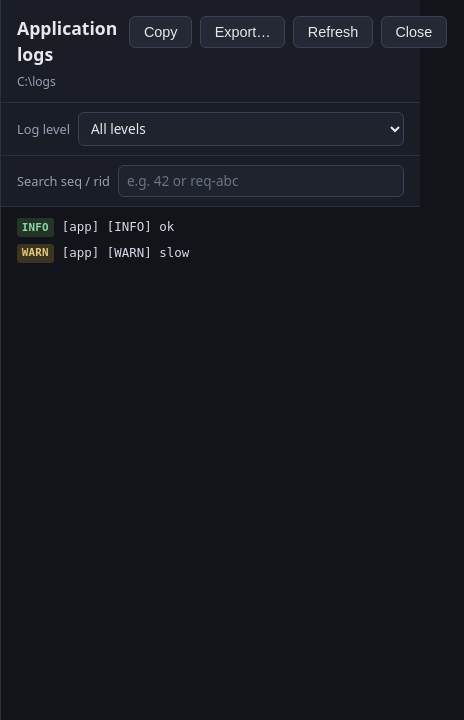
LogViewerPanel › filters by log level
Expected: the element with test id "logs-body" shows "[WARN] slow", top-left (62, 245), bottom-right (189, 260)
Select "Info" in the dropdown with test id "logs-level-select" at {"x": 241, "y": 129}, box top-left (78, 112), bottom-right (404, 146)
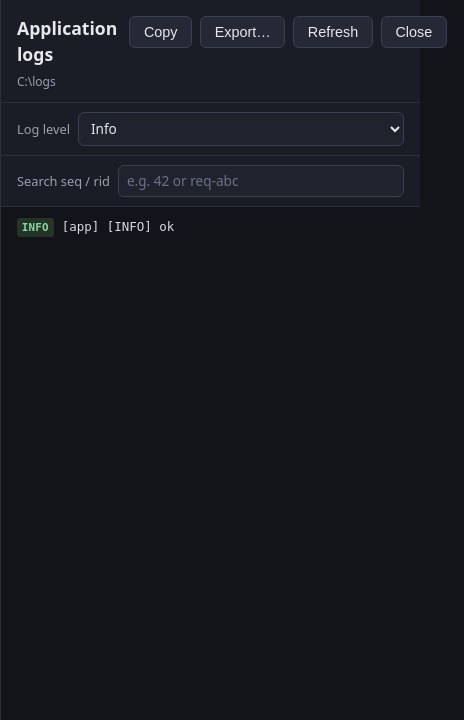
Expected: the element with test id "logs-body" shows "[INFO] ok", top-left (62, 219), bottom-right (174, 234)
Now the element with test id "logs-body" no longer shows "[WARN] slow"
